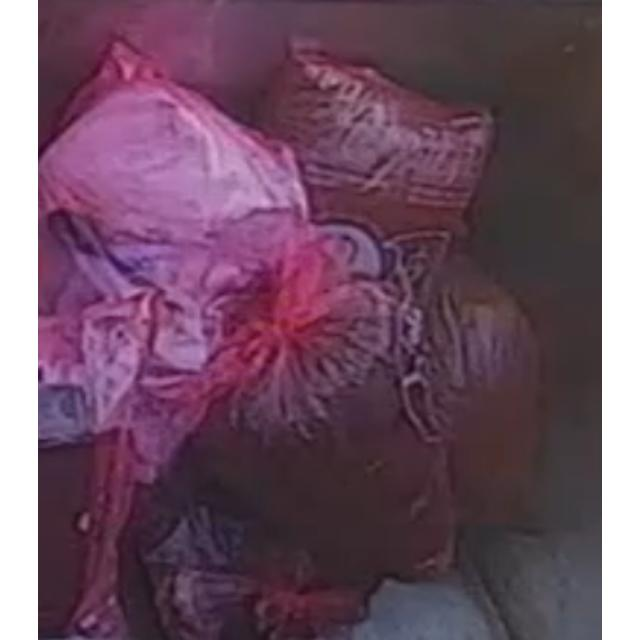other_trashbag: (150, 228, 449, 574), (272, 42, 492, 308)
